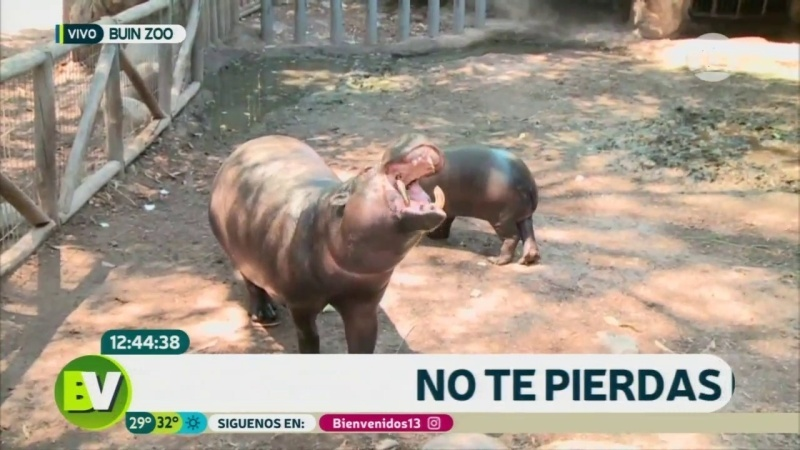hipopotamo: (196, 128, 450, 356), (404, 124, 564, 281)
